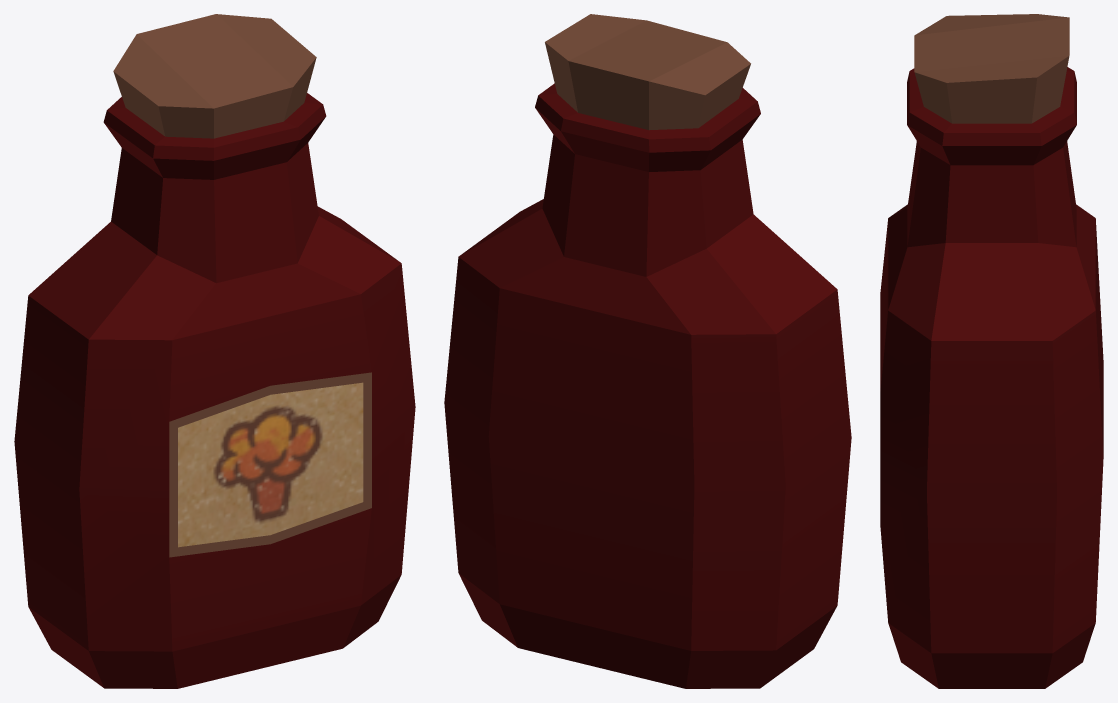
Rendered from Explosion potion.fbx.
3 renders of one model, left to right at view 1: azimuth 30°, elevation 25°; view 2: azimuth 150°, elevation 25°; view 3: azimuth 270°, elevation 25°, orthographic.
Parts seen in each view (by area): view 1: Explosion potion; view 2: Explosion potion; view 3: Explosion potion.
Part boxes in pixels (x1,y1,x2,y2): Explosion potion: [14, 14, 415, 688]; Explosion potion: [444, 14, 851, 688]; Explosion potion: [880, 14, 1103, 688].
Size of the model in its own units: 195 by 323 by 112.
1 material, 1 textured.
